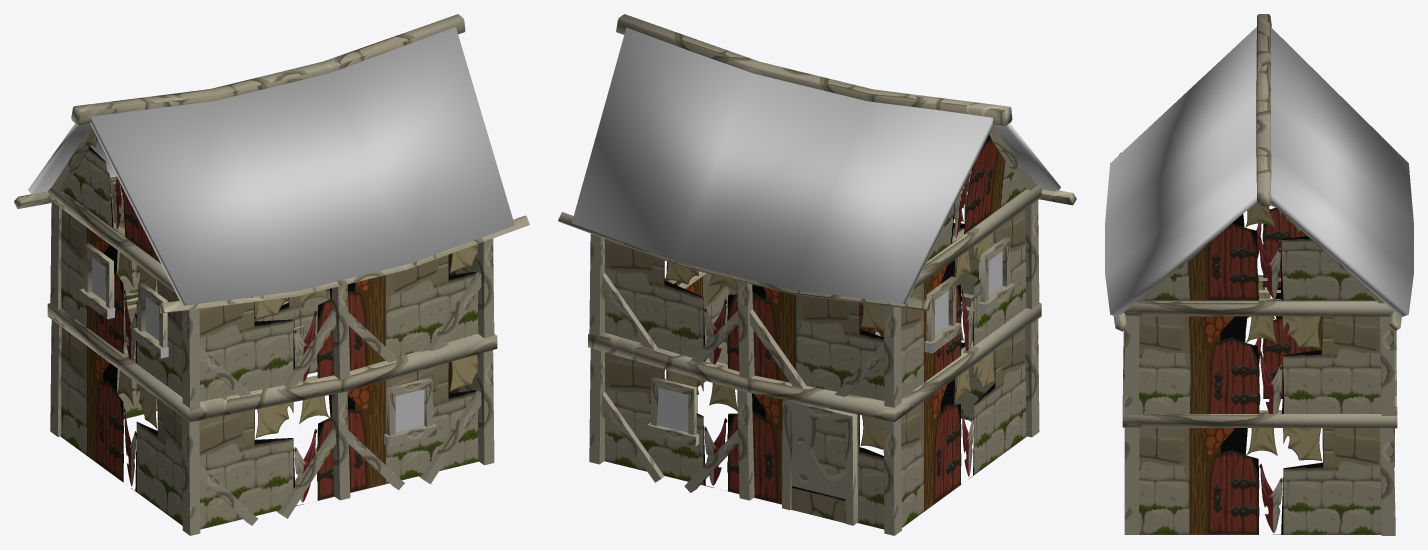
The model's file is Farm_tall_mobile.FBX.
The picture shows the model from 3 angles, left to right: view 1: azimuth 30°, elevation 25°; view 2: azimuth 150°, elevation 25°; view 3: azimuth 270°, elevation 25°; orthographic projection. The views are drawn at different scales.
Parts seen in each view (by area): view 1: Farm_tall_mobile; view 2: Farm_tall_mobile; view 3: Farm_tall_mobile.
Part boxes in pixels (x1,y1,x2,y2): Farm_tall_mobile: [14, 14, 529, 535]; Farm_tall_mobile: [558, 14, 1076, 535]; Farm_tall_mobile: [1105, 14, 1413, 535].
Bounding box in the file's own units: 7.87 × 7.64 × 5.77.
